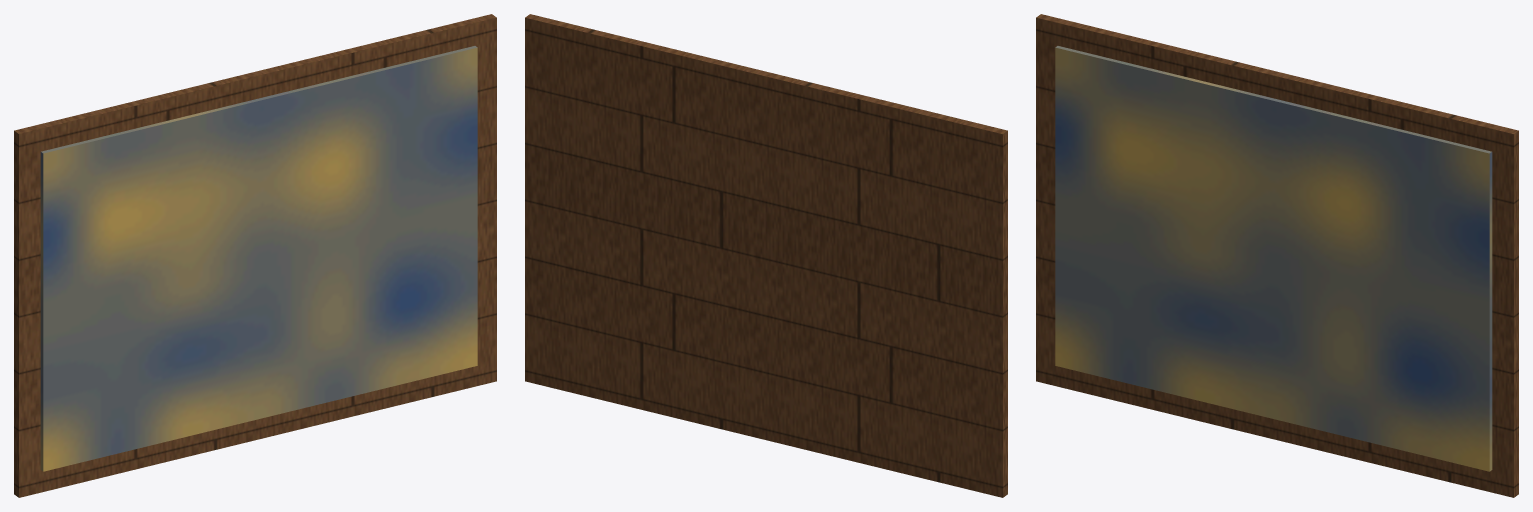
Rendered from painting.obj.
3 renders of one model, left to right at view 1: azimuth 30°, elevation 25°; view 2: azimuth 150°, elevation 25°; view 3: azimuth 330°, elevation 25°, orthographic.
Parts seen in each view (by area): view 1: canvas, wood; view 2: wood; view 3: canvas, wood.
Part boxes in pixels (x1=…): canvas: x1=40, y1=46, x2=477, y2=471; wood: x1=14, y1=14, x2=496, y2=497; wood: x1=525, y1=14, x2=1007, y2=497; canvas: x1=1055, y1=46, x2=1492, y2=471; wood: x1=1036, y1=14, x2=1518, y2=497.
Size of the model in its own units: 2.2 by 1.6 by 0.06.
2 materials, 2 textured.
